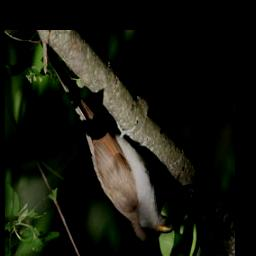Cuckoo: (41, 41, 173, 244)
